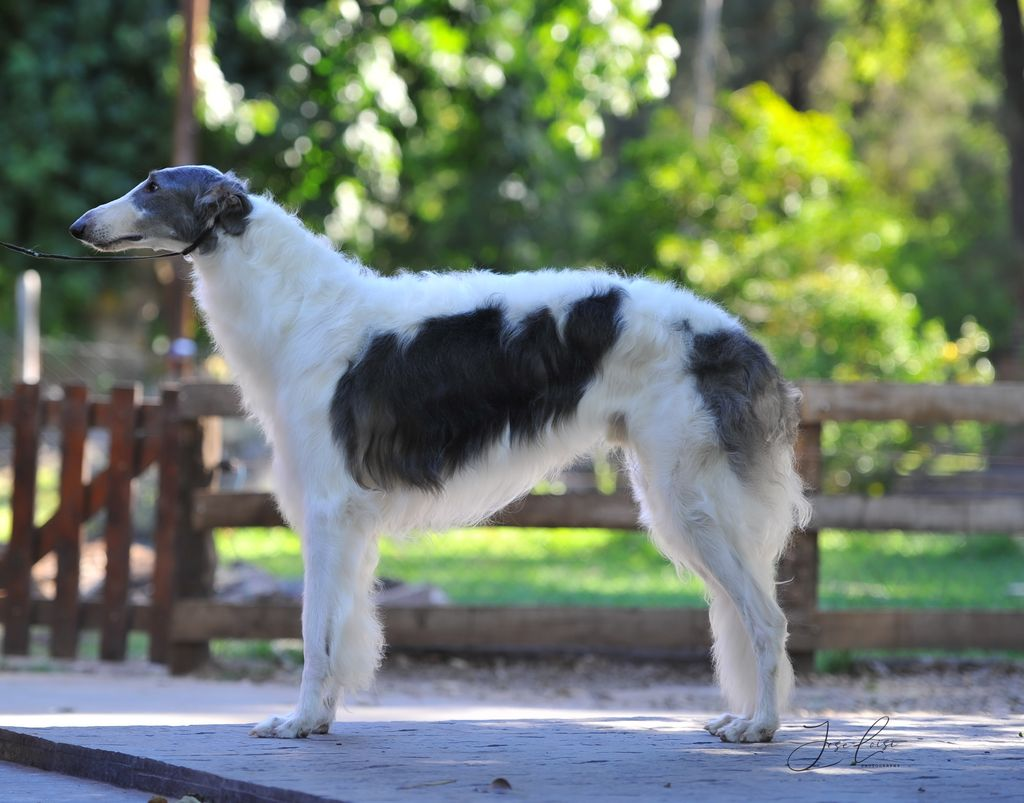borzoi: (57, 143, 794, 741)
